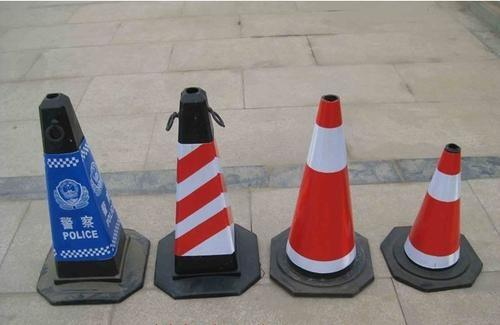cone_barrel: (26, 89, 137, 290), (152, 90, 256, 292), (281, 94, 368, 276), (401, 144, 470, 268)
